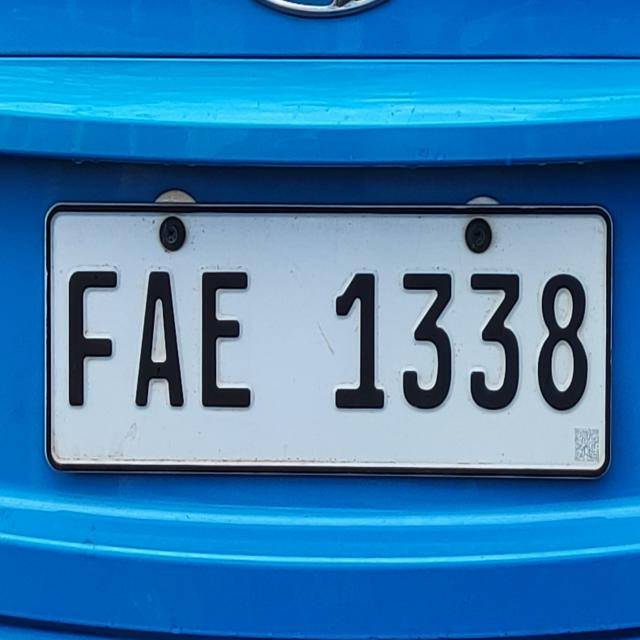plate: (41, 199, 616, 485)
